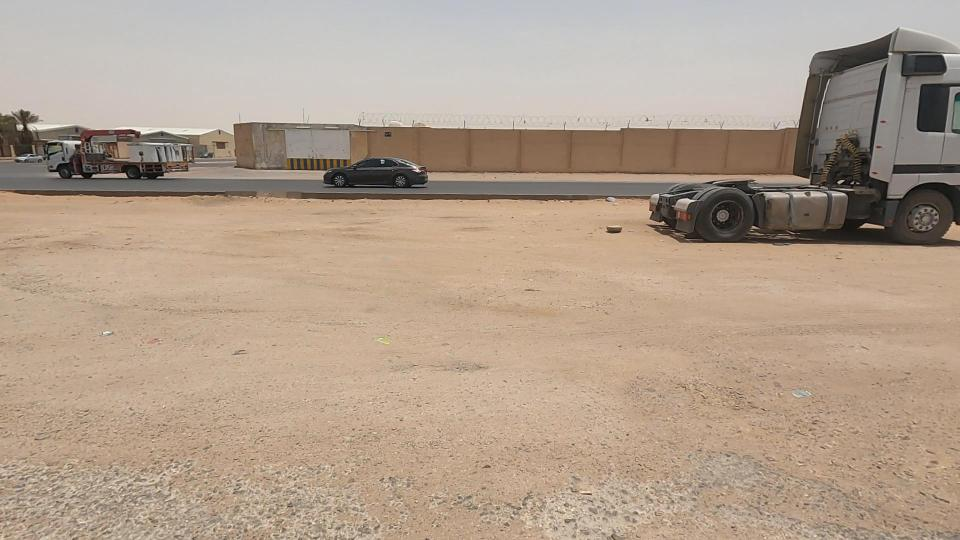CONSTRUCTION_ROAD: (0, 67, 657, 540), (302, 85, 960, 540)
